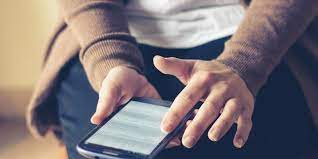Cell Phone: (75, 96, 197, 159)
